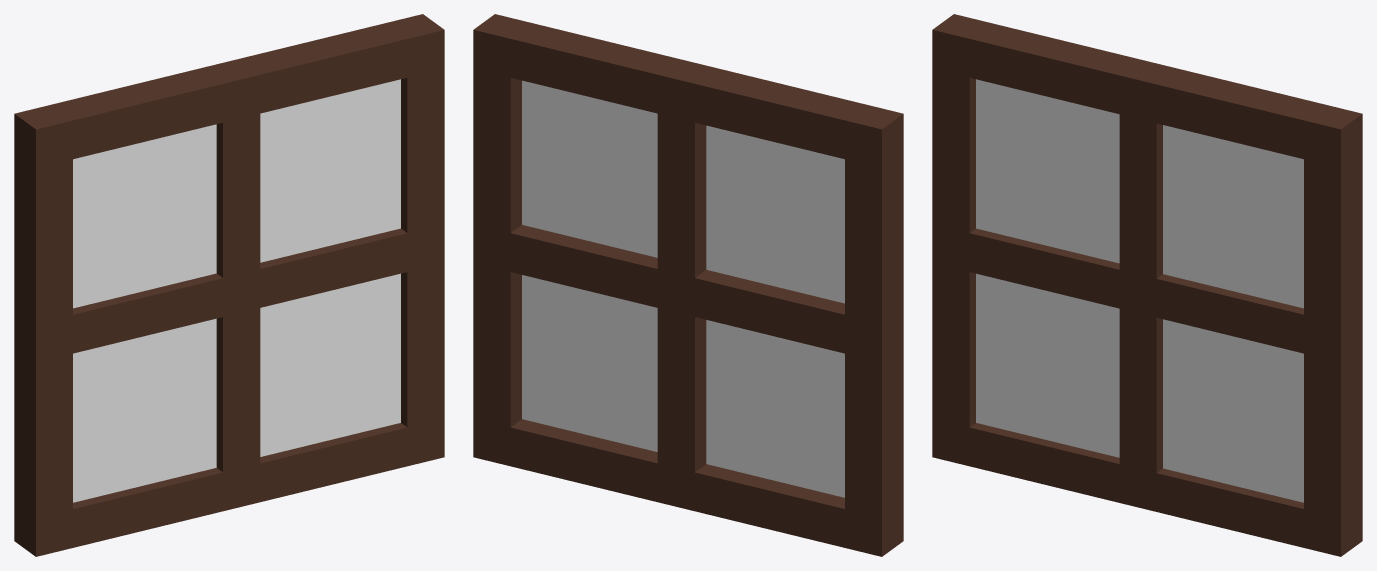
The model's file is +duvar.fbx.
The picture shows the model from 3 angles, left to right: view 1: azimuth 30°, elevation 25°; view 2: azimuth 150°, elevation 25°; view 3: azimuth 330°, elevation 25°; orthographic projection.
Visible parts, largest first — view 1: Plane.024, Plane.021; view 2: Plane.024, Plane.021; view 3: Plane.024, Plane.021.
Part boxes in pixels (left/top/right/bottom): Plane.024: left=14, top=14, right=444, bottom=556; Plane.021: left=73, top=79, right=400, bottom=502; Plane.024: left=473, top=14, right=903, bottom=556; Plane.021: left=522, top=80, right=844, bottom=497; Plane.024: left=932, top=14, right=1362, bottom=556; Plane.021: left=976, top=79, right=1303, bottom=502.
Size of the model in its own units: 2.86 by 2.86 by 0.2616.
